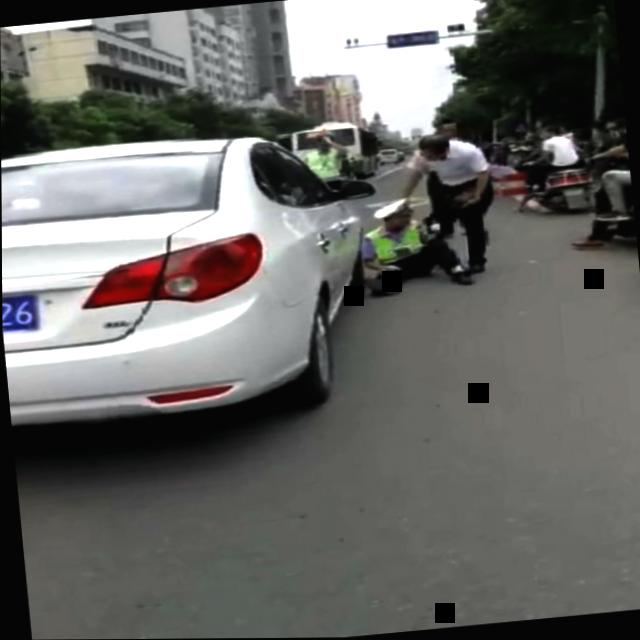Fall-Detected: (349, 180, 474, 306)
